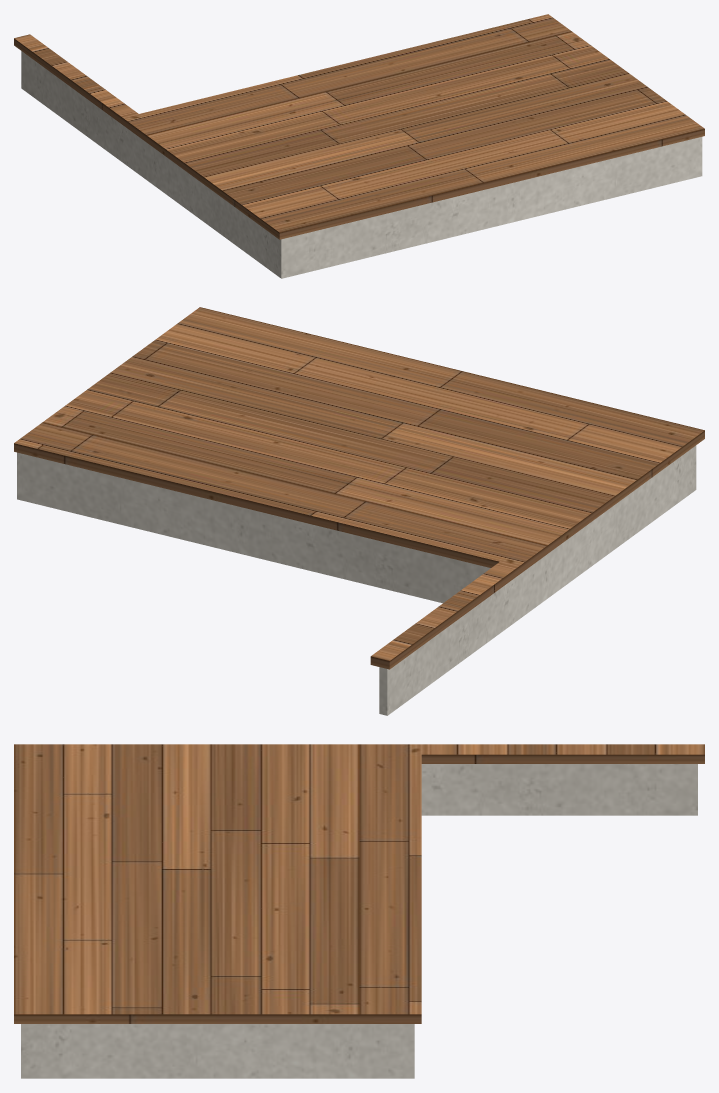
Rendered from floor_wood_u_e0_15_0_0_h3.glb.
The picture shows the model from 3 angles, top to bottom: view 1: azimuth 30°, elevation 25°; view 2: azimuth 150°, elevation 25°; view 3: azimuth 270°, elevation 25°; orthographic projection. The views are drawn at different scales.
Parts seen in each view (by area): view 1: floor_wood_u_e0_15_0_0_h3_floor, floor_wood_u_e0_15_0_0_h3_plaster; view 2: floor_wood_u_e0_15_0_0_h3_floor, floor_wood_u_e0_15_0_0_h3_plaster; view 3: floor_wood_u_e0_15_0_0_h3_floor, floor_wood_u_e0_15_0_0_h3_plaster.
Boxes of the visible parts, x1,y1,x2,y2 form: floor_wood_u_e0_15_0_0_h3_floor: (14,14,704,239); floor_wood_u_e0_15_0_0_h3_plaster: (21,51,702,278); floor_wood_u_e0_15_0_0_h3_floor: (14,307,704,669); floor_wood_u_e0_15_0_0_h3_plaster: (17,445,696,715); floor_wood_u_e0_15_0_0_h3_floor: (14,744,704,1023); floor_wood_u_e0_15_0_0_h3_plaster: (21,764,697,1078).
Bounding box in the file's own units: 1.85 × 0.205 × 2.
Materials: 2 (2 with a texture image).
